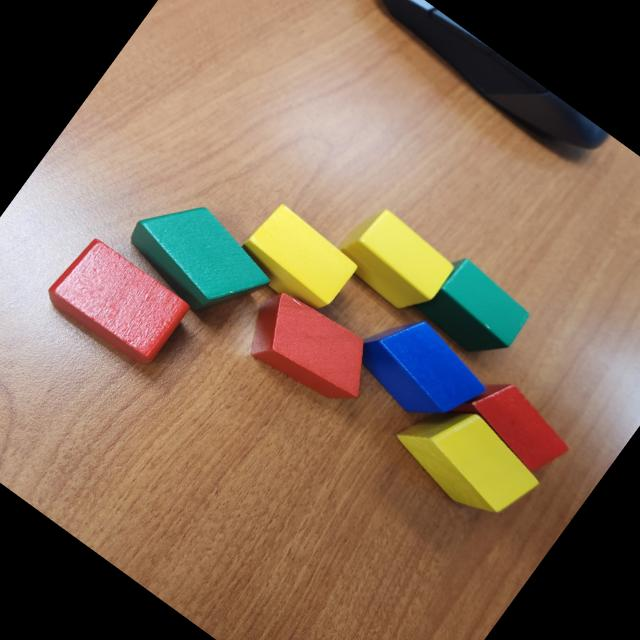blue: (338, 294, 498, 444)
green: (113, 179, 284, 338), (408, 248, 538, 370)
red: (234, 278, 388, 422), (44, 230, 195, 372), (446, 362, 580, 482)
yellow: (382, 382, 550, 536), (320, 192, 458, 322), (230, 198, 363, 324)
